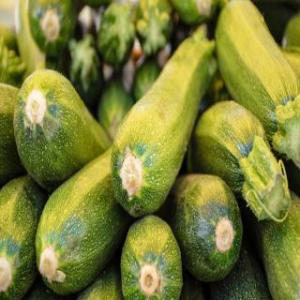zucchini: (100, 34, 214, 210)
